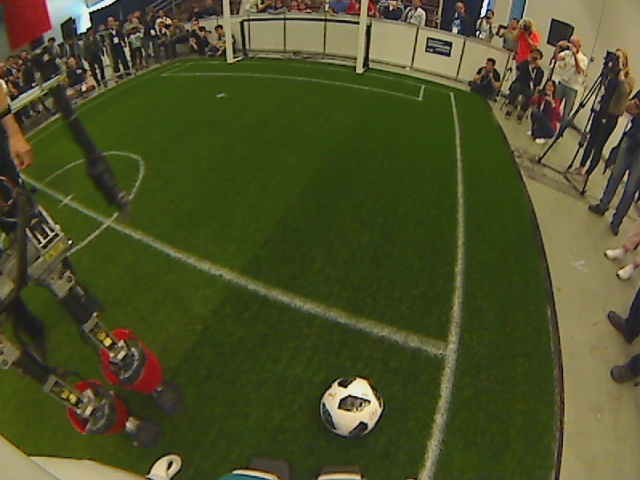ball: (317, 373, 385, 441)
